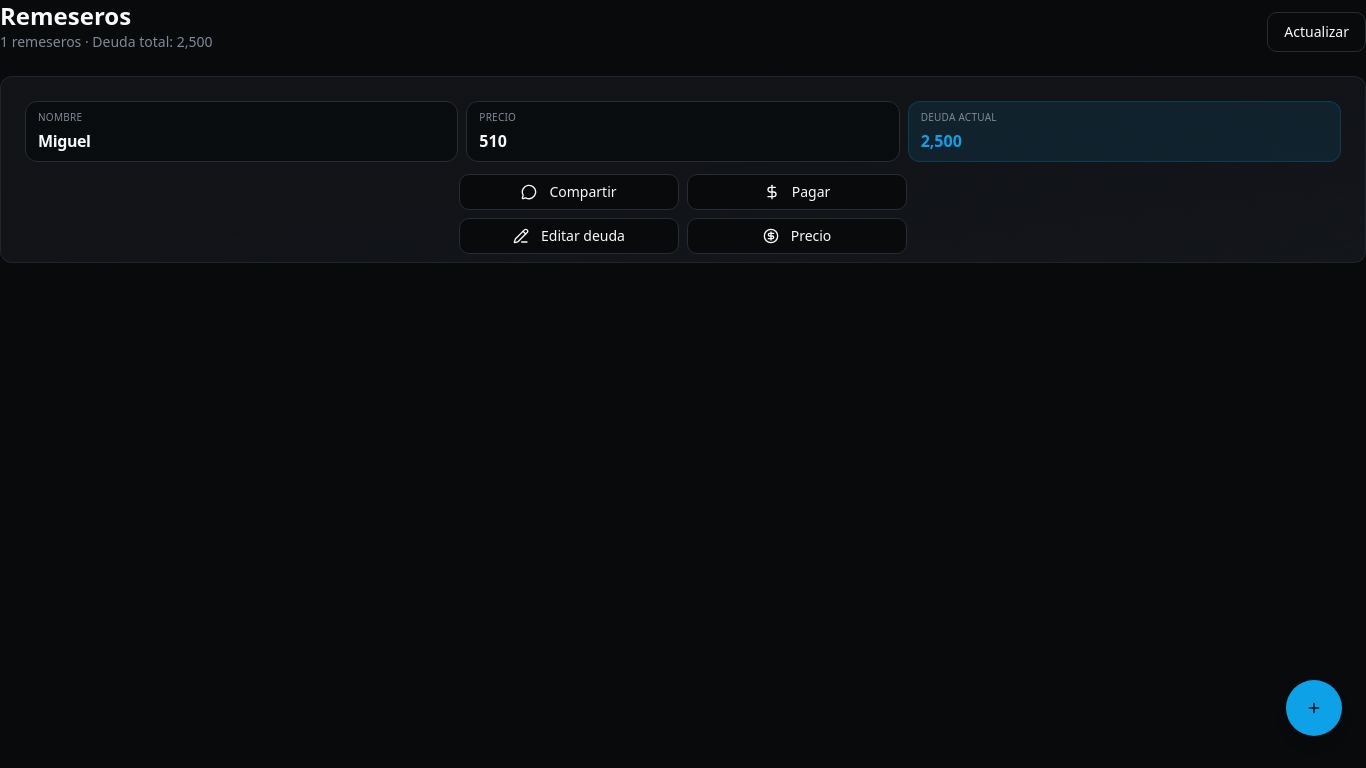
Test: RemeserosView debt editor › automatically treats a zero balance as debt
Later steps or results of the test are not shown.
Click the button "Editar deuda" at (569, 236), box [459,218,679,254]
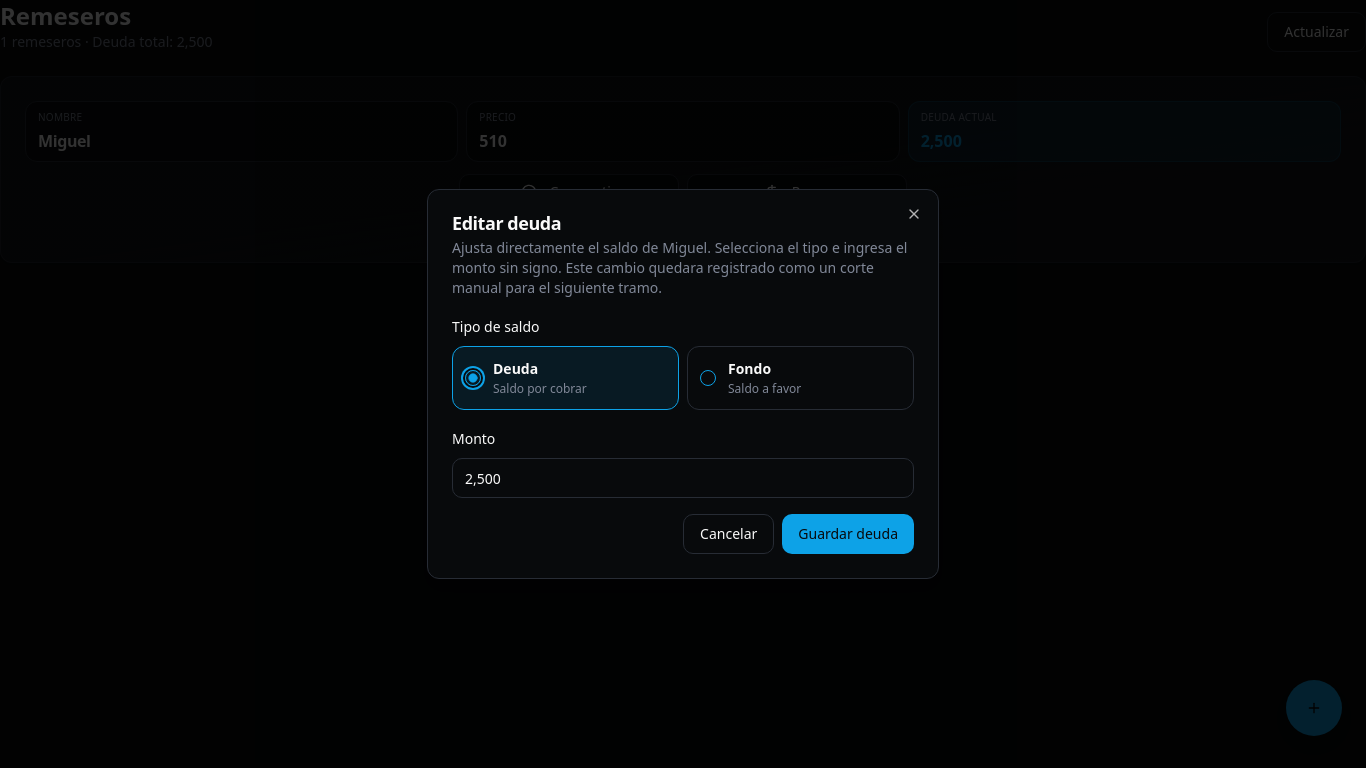
Click the radio button named "Fondo" at (708, 378), box [700,370,716,386]
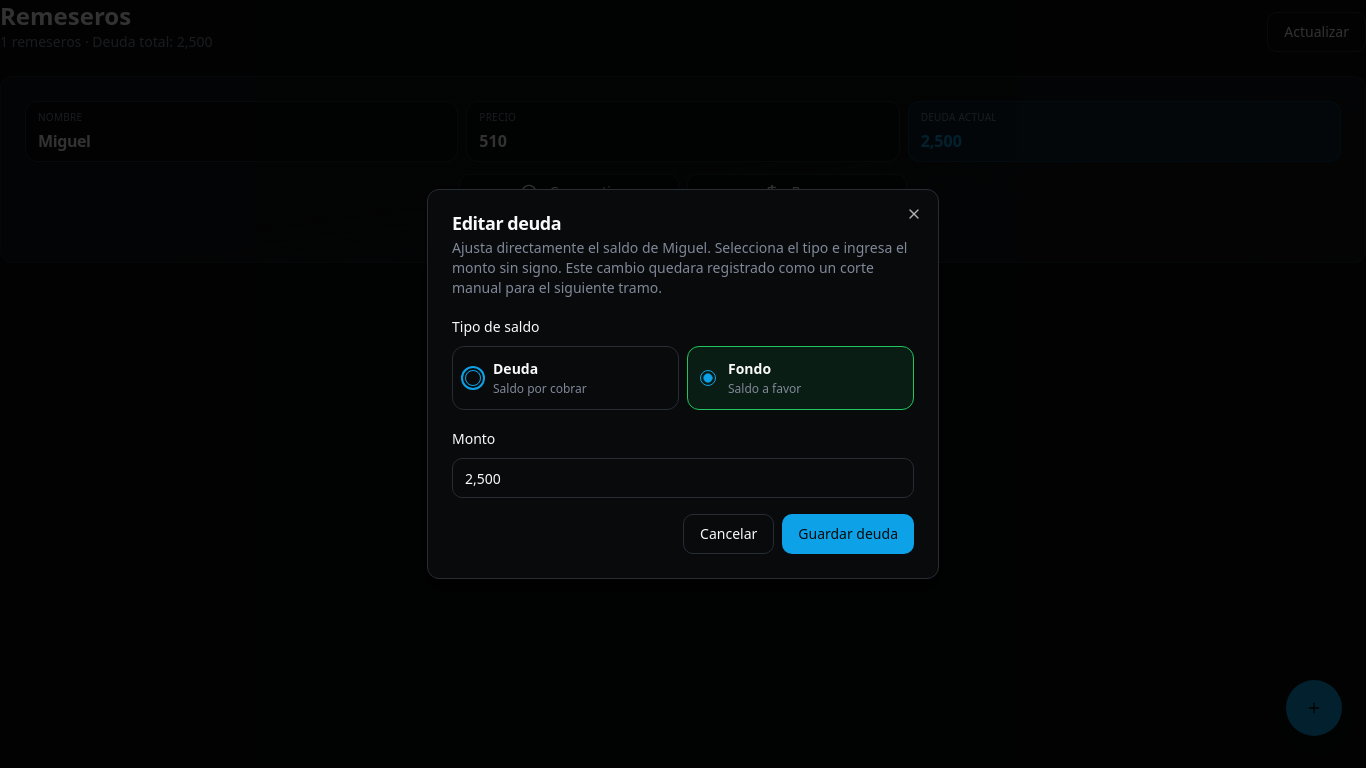
Now the radio button named "Fondo" is checked, box [700,370,716,386]
Replace the text in the field labelled "Monto" with "0" at (683, 478), box [452,458,914,498]
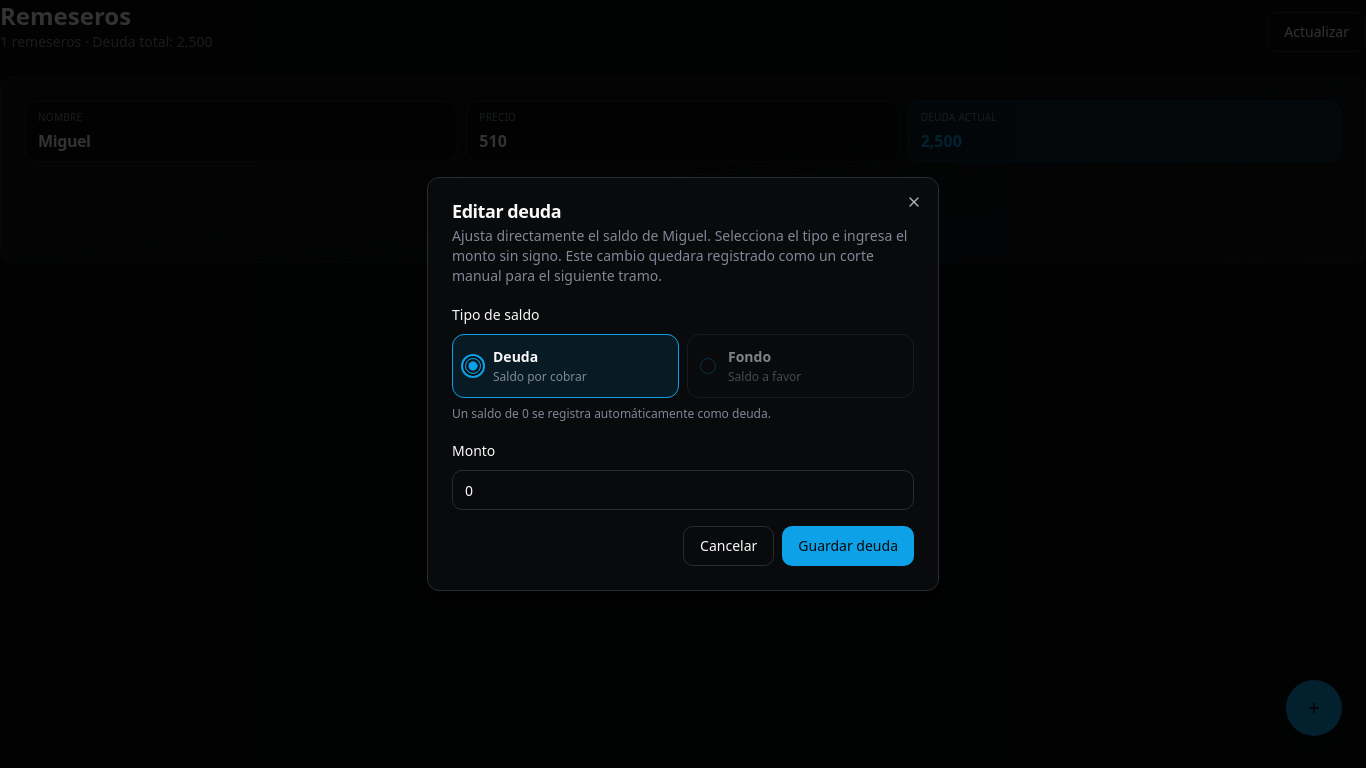
Now the radio button named "Fondo" is disabled, box [700,358,716,374]
Now the text "Un saldo de 0 se registra automáticamente como deuda." is shown, box [452,405,771,422]
